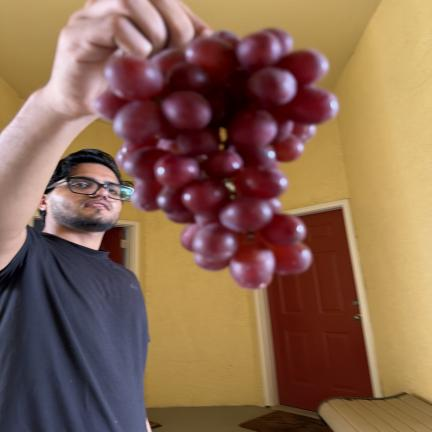grape_cluster: (96, 29, 338, 289)
